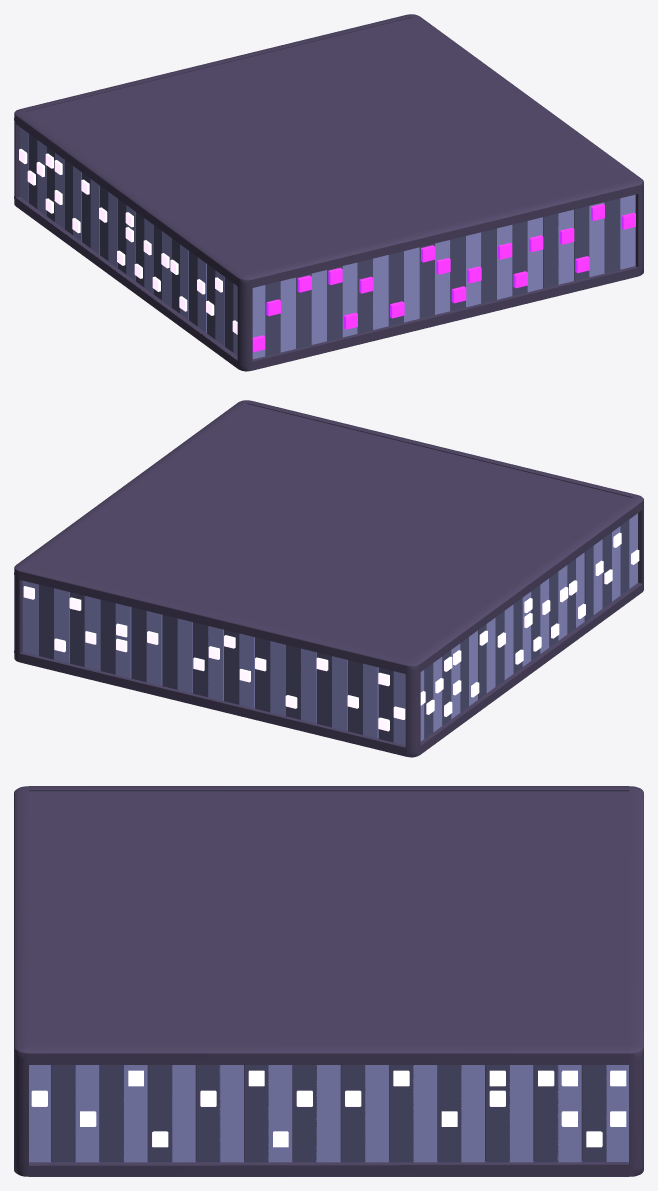
Rendered from compressed_RoofExtension.glb.
3 renders of one model, top to bottom at view 1: azimuth 30°, elevation 25°; view 2: azimuth 150°, elevation 25°; view 3: azimuth 270°, elevation 25°, orthographic. The views are drawn at different scales.
Parts seen in each view (by area): view 1: RoofExtension1, RoofExtension, tile, tile.001, Tile1, tile.002, RoofTiles1, RoofTiles2; view 2: RoofExtension1, RoofExtension, Tiles2, Tile1.001, Tile1, tile.002, RoofTiles3, RoofTiles2; view 3: RoofExtension1, RoofExtension, tile.007, tile.006, RoofTiles4.
Boxes of the visible parts, <box> form: RoofExtension1: <box>26,18,632,371</box>; RoofExtension: <box>14,14,643,371</box>; tile: <box>252,194,635,359</box>; tile.001: <box>265,198,620,356</box>; Tile1: <box>20,127,237,355</box>; tile.002: <box>28,134,233,352</box>; RoofTiles1: <box>252,204,635,352</box>; RoofTiles2: <box>19,148,237,334</box>; RoofExtension1: <box>25,404,631,757</box>; RoofExtension: <box>14,400,643,757</box>; Tiles2: <box>22,580,405,745</box>; Tile1.001: <box>38,584,393,742</box>; Tile1: <box>420,513,637,741</box>; tile.002: <box>424,520,629,738</box>; RoofTiles3: <box>23,586,405,731</box>; RoofTiles2: <box>420,532,639,716</box>; RoofExtension1: <box>24,791,628,1176</box>; RoofExtension: <box>14,786,643,1176</box>; tile.007: <box>29,1065,628,1162</box>; tile.006: <box>51,1065,606,1162</box>; RoofTiles4: <box>31,1070,626,1147</box>.
Bounding box in the file's own units: 7.31 × 1.65 × 7.29.
